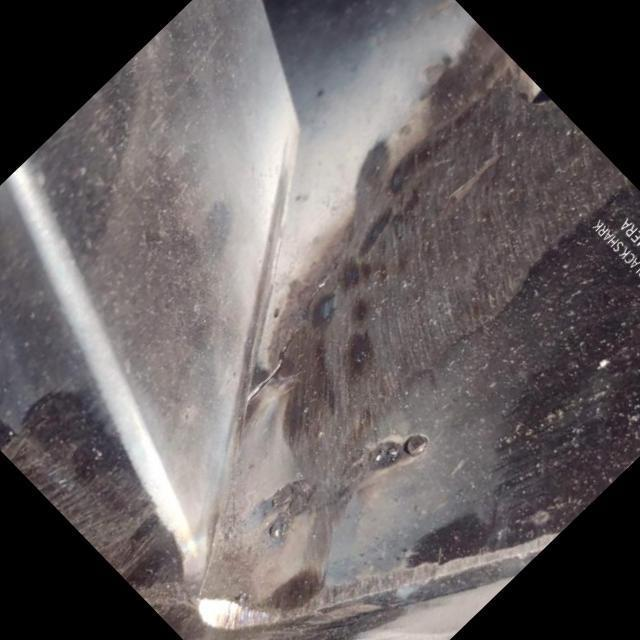defect: (239, 271, 335, 408)
